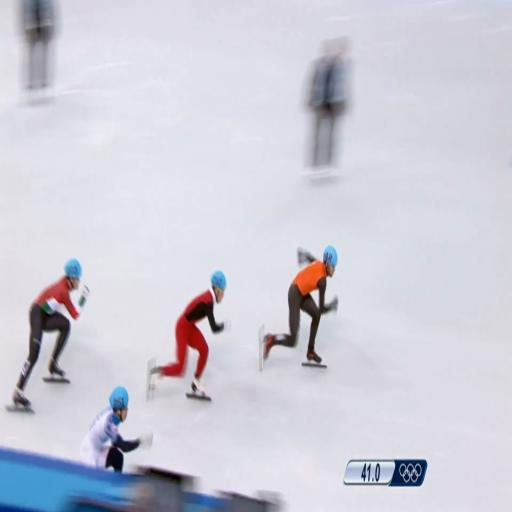Skater: (7, 259, 89, 411), (150, 271, 230, 399), (260, 246, 338, 368), (80, 387, 152, 472)
